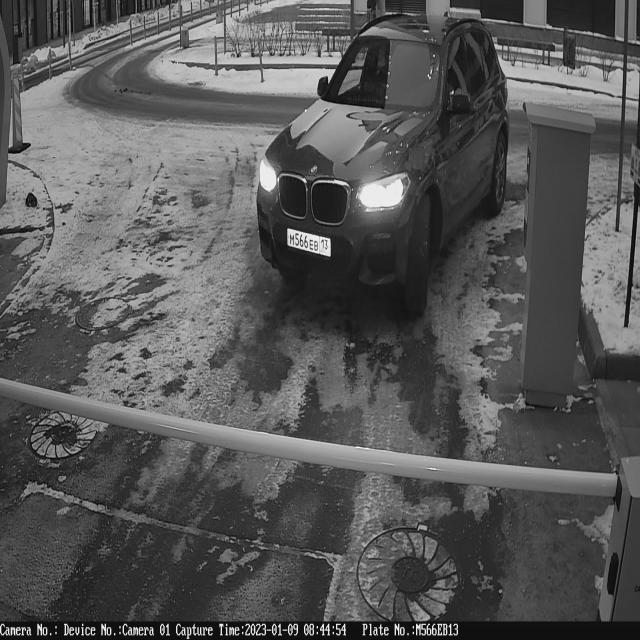car-plate-numbers: (285, 224, 335, 264)
